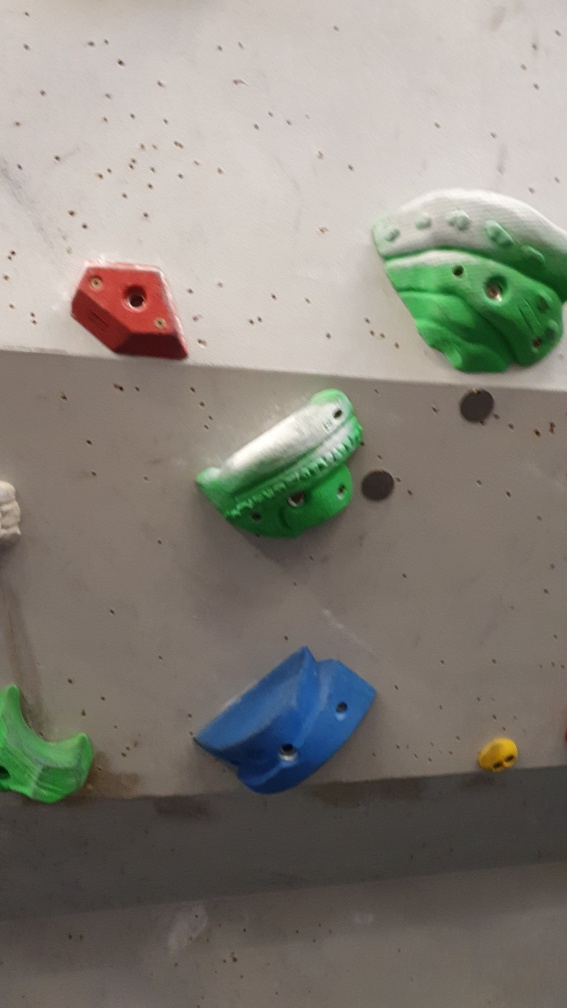Crimp: (70, 254, 197, 370)
Hand Start: (457, 382, 501, 433), (358, 465, 400, 507)
Jug: (374, 183, 567, 376), (192, 390, 371, 540), (1, 686, 106, 807)
Pinch: (191, 640, 379, 796)
